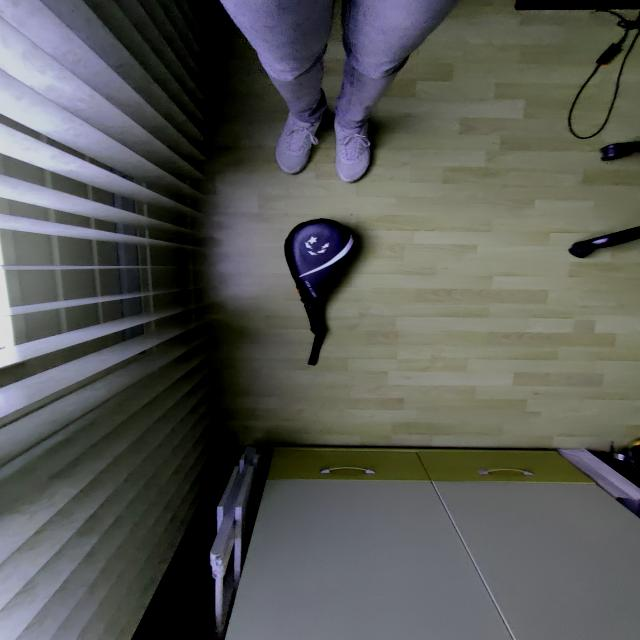paddle: (281, 218, 357, 334)
